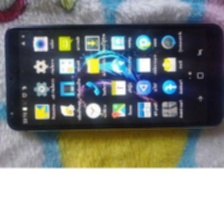phone: (2, 16, 224, 137)
